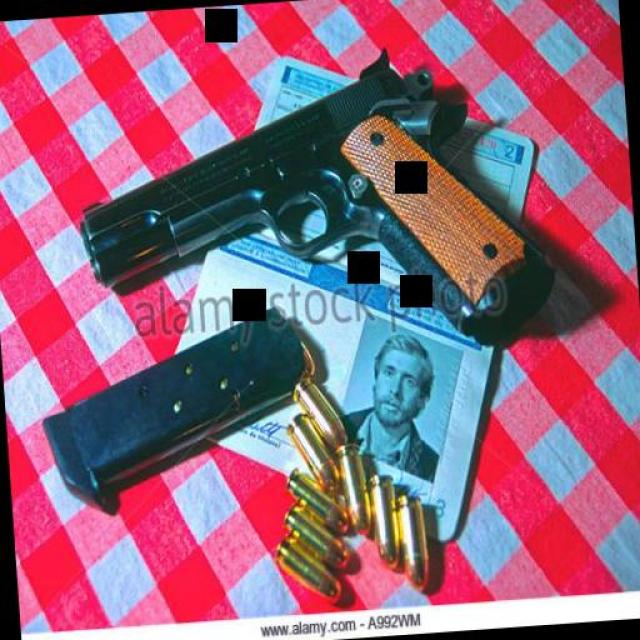gun: (65, 32, 555, 366)
